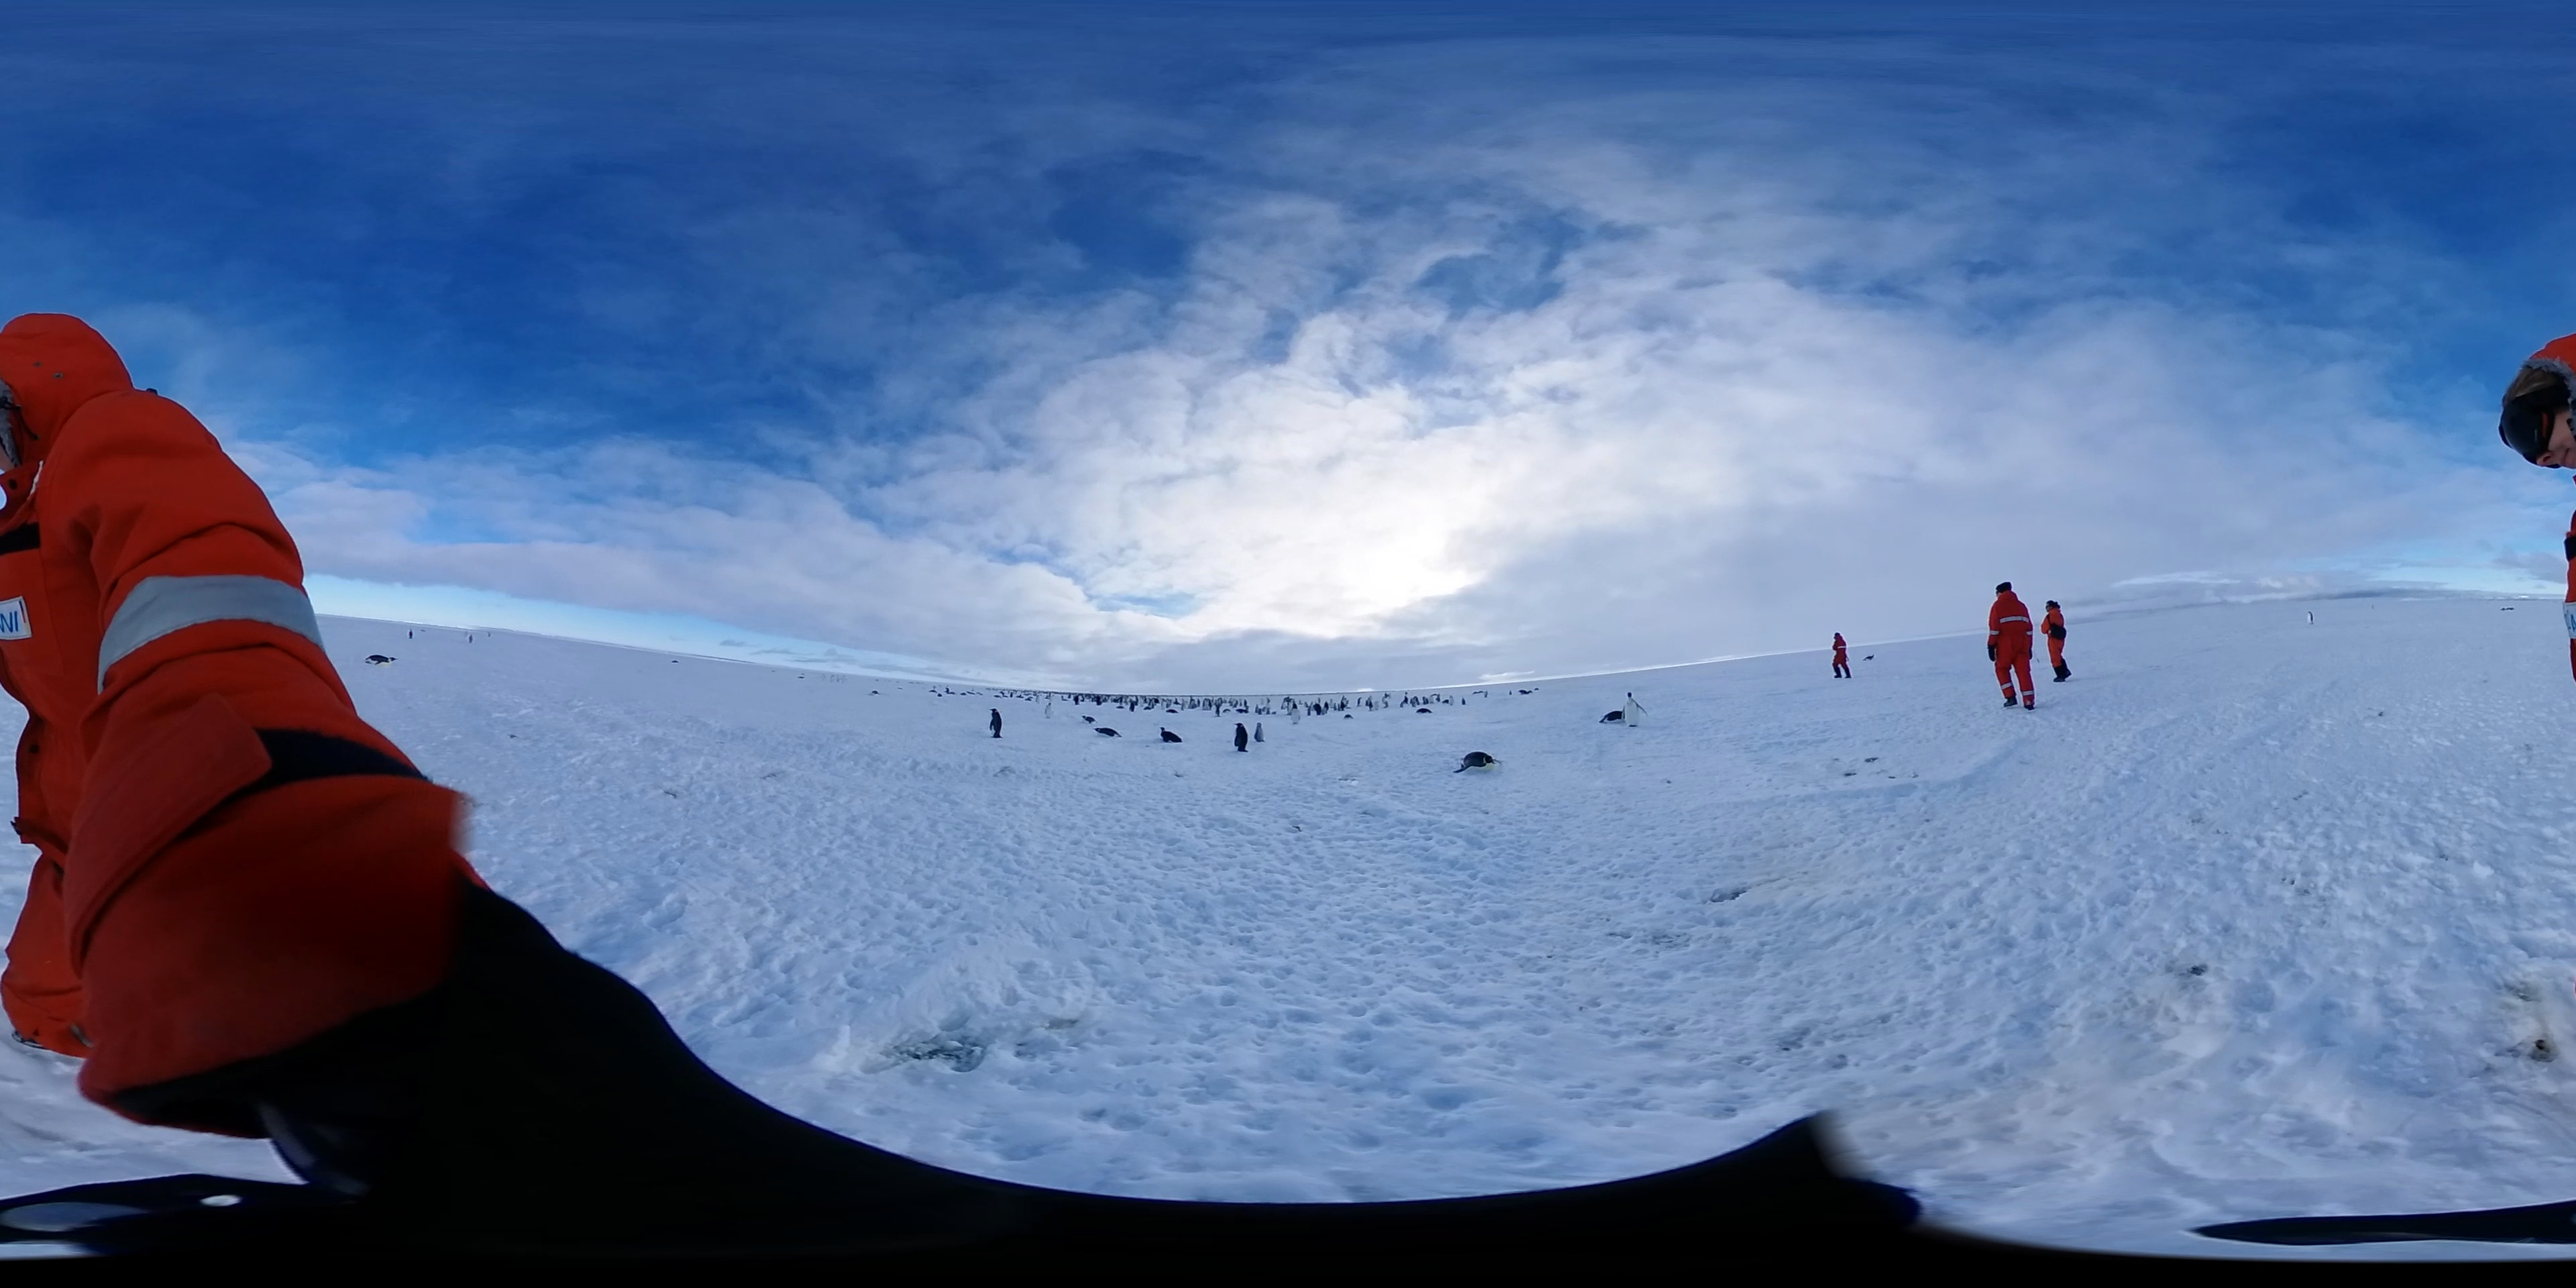adult_standing_penguin: (1617, 690, 1653, 729), (984, 706, 1004, 741), (1230, 720, 1249, 752), (2303, 609, 2316, 626)
adult_toboggan_penguin: (1451, 752, 1502, 775), (1595, 706, 1631, 724), (1157, 724, 1181, 746), (360, 652, 398, 665), (1091, 726, 1122, 738), (1079, 713, 1099, 728), (1861, 654, 1876, 665)
juvenile_penguin: (1252, 718, 1268, 744)
researcher: (7, 299, 486, 1173), (1985, 580, 2039, 710), (2039, 598, 2075, 685), (1830, 631, 1856, 683)
